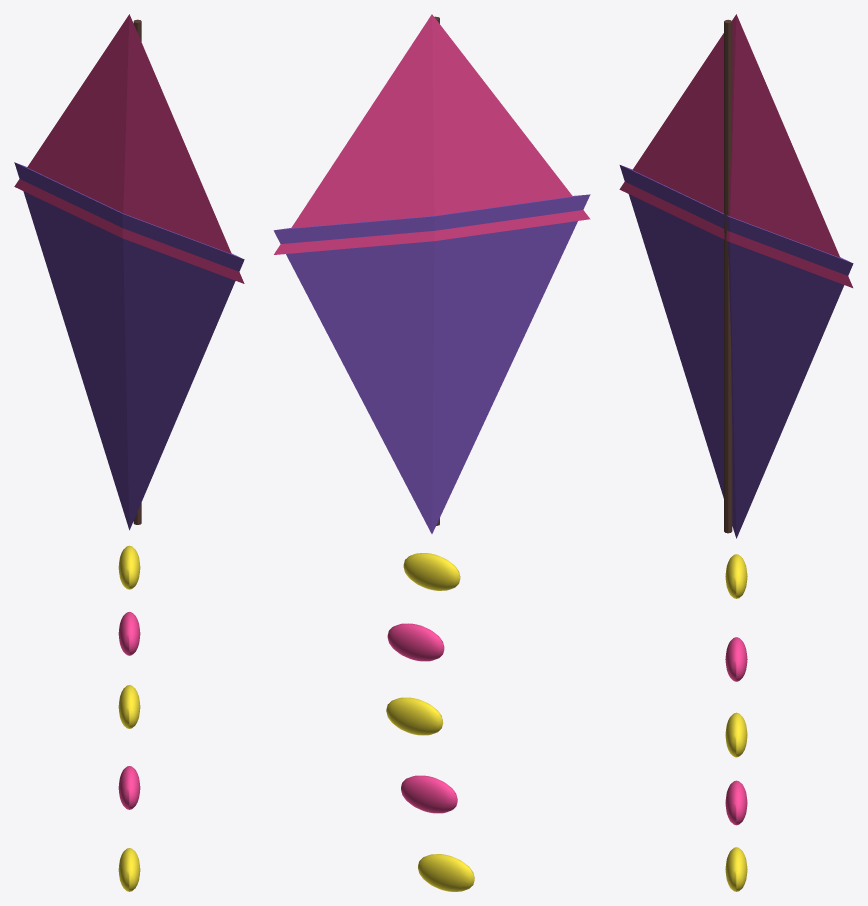
The model's file is journey_kite.glb.
The picture shows the model from 3 angles, left to right: view 1: azimuth 90°, elevation 25°; view 2: azimuth 150°, elevation 25°; view 3: azimuth 270°, elevation 25°; orthographic projection.
Visible parts, largest first — view 1: Kite_body; view 2: Kite_body; view 3: Kite_body.
Part boxes in pixels (box(x1,y1,x2,y2)): Kite_body: box(14, 14, 244, 891); Kite_body: box(273, 14, 590, 891); Kite_body: box(619, 14, 853, 891).
Bounding box in the file's own units: 0.8485 × 3.52 × 0.8485.
